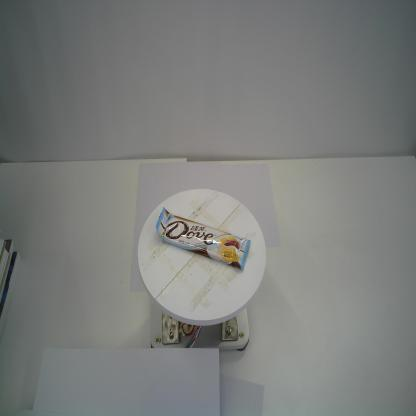Chocolate: (156, 207, 251, 271)
